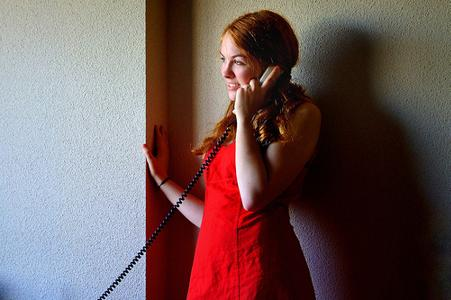person: (142, 11, 323, 298)
